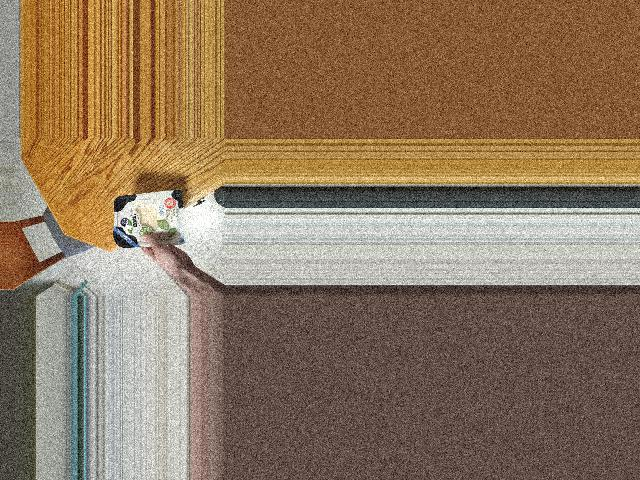cheese: (101, 190, 196, 245)
